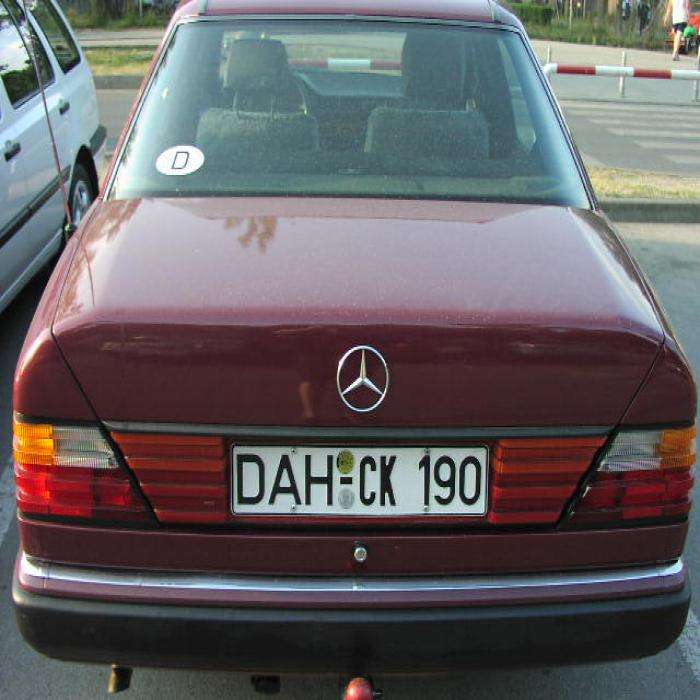number_plate: (230, 447, 484, 510)
